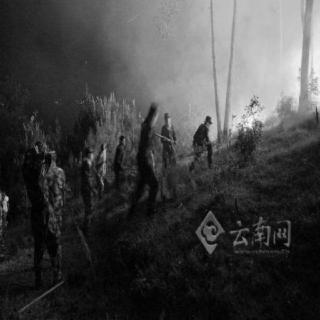Fire: (230, 90, 278, 137)
